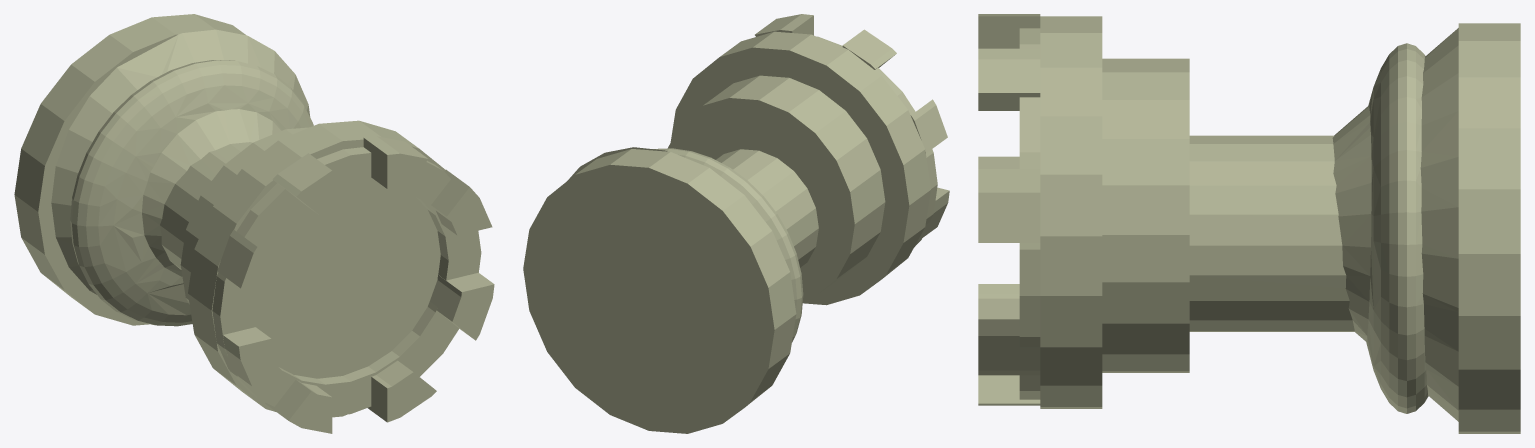
File: tinker.obj
3 views of the same model, side by side, from view 1: azimuth 30°, elevation 25°; view 2: azimuth 150°, elevation 25°; view 3: azimuth 270°, elevation 25° (orthographic). The views are drawn at different scales.
Parts seen in each view (by area): view 1: obj_0; view 2: obj_0; view 3: obj_0.
Boxes of the visible parts, box(x1,y1,x2,y2) form: obj_0: box(14, 14, 494, 433); obj_0: box(523, 14, 949, 433); obj_0: box(978, 14, 1520, 433).
Size of the model in its own units: 20 by 20.65 by 26.21.
